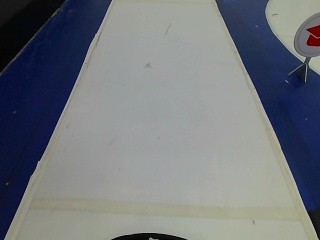school: (288, 14, 318, 57)
